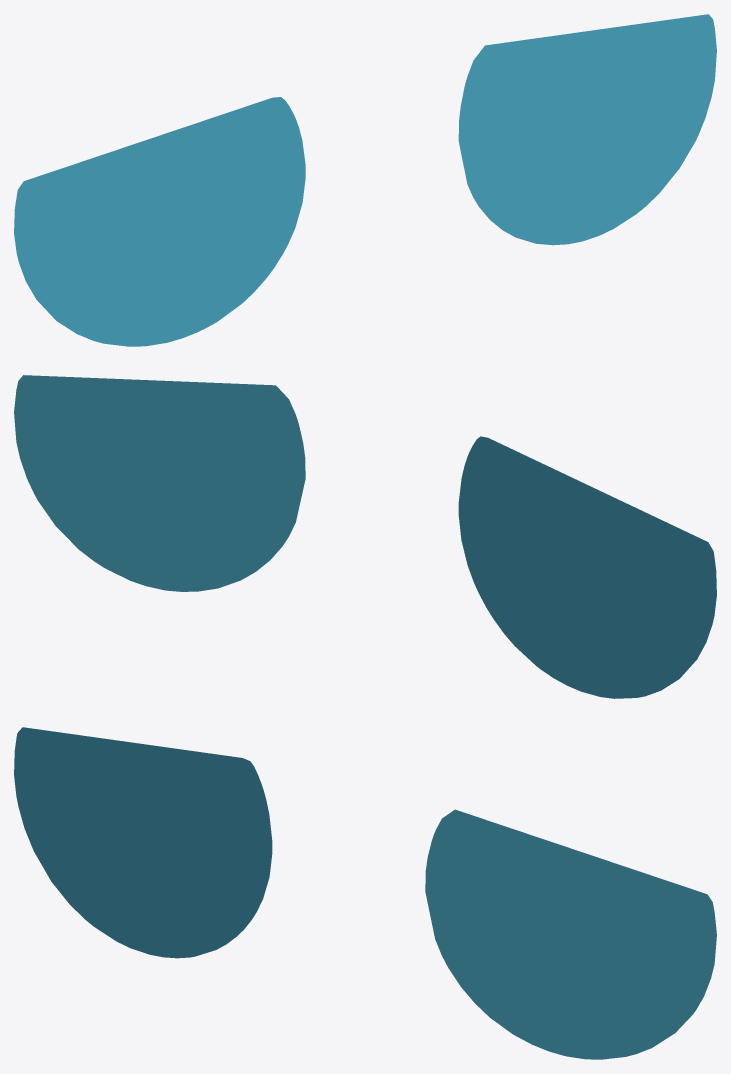
Rendered from Eyes.glb.
3 views of the same model, one above another, from view 1: azimuth 30°, elevation 25°; view 2: azimuth 150°, elevation 25°; view 3: azimuth 330°, elevation 25° (orthographic).
Visible parts, largest first — view 1: Group19761, Group19776; view 2: Group19776, Group19761; view 3: Group19776, Group19761.
Boxes of the visible parts, <box> form: Group19761: <box>14,97,305,346</box>; Group19776: <box>458,14,716,245</box>; Group19776: <box>14,375,305,591</box>; Group19761: <box>458,436,716,698</box>; Group19776: <box>425,809,716,1059</box>; Group19761: <box>14,727,272,958</box>.
Size of the model in its own units: 0.00222 by 0.000681 by 9.12e-05.
2 materials, 2 textured.
